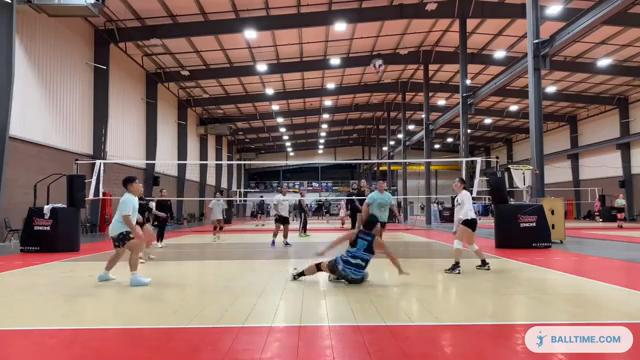Player: (288, 212, 411, 285), (98, 176, 150, 285), (445, 178, 489, 273), (363, 180, 399, 237), (137, 196, 166, 263), (153, 189, 173, 247), (271, 186, 290, 246), (208, 192, 226, 241), (346, 182, 361, 229), (297, 191, 309, 236), (356, 179, 369, 209)
ball: (370, 59, 387, 71)
